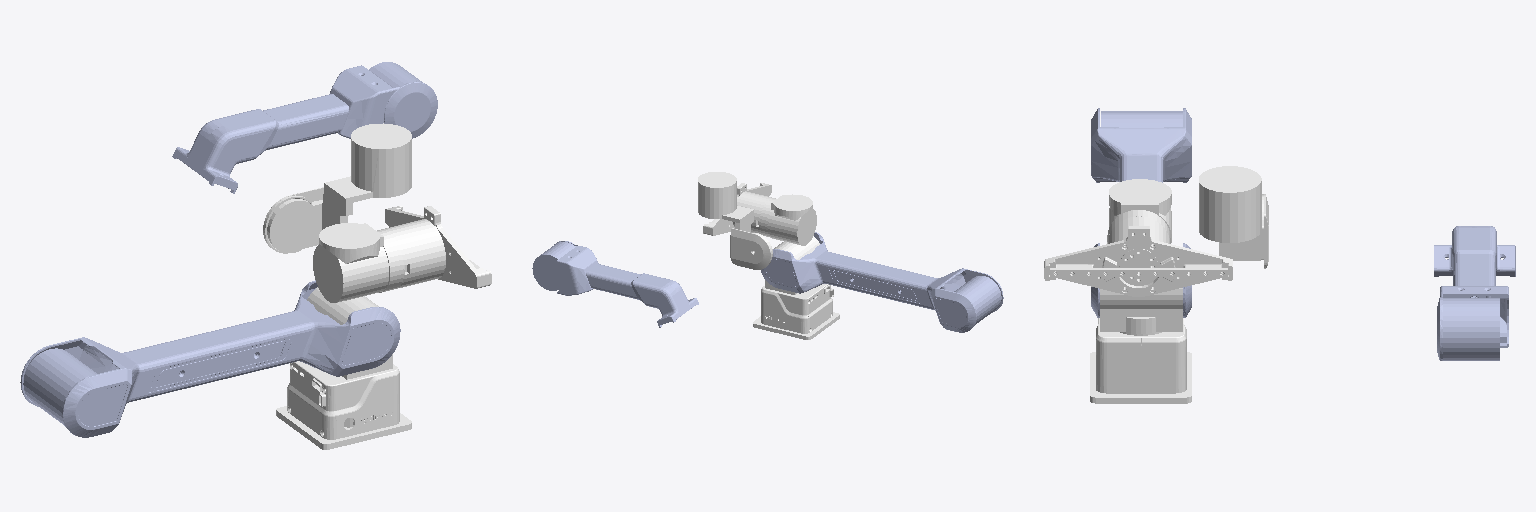
URDF robot description (S1_urdf):
<?xml version="1.0" encoding="utf-8"?>
<!-- This URDF was automatically created by SolidWorks to URDF Exporter! Originally created by Stephen Brawner (brawner@gmail.com) 
     Commit Version: 1.6.0-4-g7f85cfe  Build Version: 1.6.7995.38578
     For more information, please see http://wiki.ros.org/sw_urdf_exporter -->
<robot
  name="S1_urdf">
  <link
    name="base_link">
    <inertial>
      <origin
        xyz="-2.95623718748507E-06 0.00380858444094159 -0.00812774108594988"
        rpy="0 0 0" />
      <mass
        value="0.20806063959613" />
      <inertia
        ixx="0.000111825104100504"
        ixy="2.09920975933719E-08"
        ixz="7.58291968234202E-09"
        iyy="0.000111582714512014"
        iyz="1.21102241506082E-07"
        izz="0.000141736244263584" />
    </inertial>
    <visual>
      <origin
        xyz="0 0 0"
        rpy="0 0 0" />
      <geometry>
        <mesh
          filename="package://S1_urdf/meshes/base_link.STL" />
      </geometry>
      <material
        name="">
        <color
          rgba="1 1 1 1" />
      </material>
    </visual>
    <collision>
      <origin
        xyz="0 0 0"
        rpy="0 0 0" />
      <geometry>
        <mesh
          filename="package://S1_urdf/meshes/base_link.STL" />
      </geometry>
    </collision>
  </link>
  <link
    name="1_Link">
    <inertial>
      <origin
        xyz="-5.00000000002408E-06 7.80625564189563E-18 0.0590653989286232"
        rpy="0 0 0" />
      <mass
        value="0.240435362198768" />
      <inertia
        ixx="0.000128091509815163"
        ixy="-1.64953324173944E-20"
        ixz="1.41447947803783E-21"
        iyy="0.00018630832355269"
        iyz="3.78136640939339E-21"
        izz="0.000164031471753809" />
    </inertial>
    <visual>
      <origin
        xyz="0 0 0"
        rpy="0 0 0" />
      <geometry>
        <mesh
          filename="package://S1_urdf/meshes/1_Link.STL" />
      </geometry>
      <material
        name="">
        <color
          rgba="1 1 1 1" />
      </material>
    </visual>
    <collision>
      <origin
        xyz="0 0 0"
        rpy="0 0 0" />
      <geometry>
        <mesh
          filename="package://S1_urdf/meshes/1_Link.STL" />
      </geometry>
    </collision>
  </link>
  <joint
    name="1joint"
    type="revolute">
    <origin
      xyz="0 0 0"
      rpy="0 0 0" />
    <parent
      link="base_link" />
    <child
      link="1_Link" />
    <axis
      xyz="0 0 1" />
    <limit
      lower="-2.967"
      upper="2.967"
      effort="9"
      velocity="3" />
  </joint>
  <link
    name="2_Link">
    <inertial>
      <origin
        xyz="0.000517956052955909 0.251879223621486 -7.29157387886203E-05"
        rpy="0 0 0" />
      <mass
        value="0.27895983245346" />
      <inertia
        ixx="0.000968577549611043"
        ixy="-2.62737227765118E-07"
        ixz="7.55244891626037E-08"
        iyy="0.000163800463938934"
        iyz="-1.39606866960903E-05"
        izz="0.00100988911020498" />
    </inertial>
    <visual>
      <origin
        xyz="0 0 0"
        rpy="0 0 0" />
      <geometry>
        <mesh
          filename="package://S1_urdf/meshes/2_Link.STL" />
      </geometry>
      <material
        name="">
        <color
          rgba="0.792156862745098 0.819607843137255 0.933333333333333 1" />
      </material>
    </visual>
    <collision>
      <origin
        xyz="0 0 0"
        rpy="0 0 0" />
      <geometry>
        <mesh
          filename="package://S1_urdf/meshes/2_Link.STL" />
      </geometry>
    </collision>
  </link>
  <joint
    name="2joint"
    type="revolute">
    <origin
      xyz="0 0 0.06525"
      rpy="0 0 0" />
    <parent
      link="1_Link" />
    <child
      link="2_Link" />
    <axis
      xyz="1 0 0" />
    <limit
      lower="0"
      upper="3.14"
      effort="9"
      velocity="3" />
  </joint>
  <link
    name="3_Link">
    <inertial>
      <origin
        xyz="-0.00362158780107997 -0.190378401760348 0.05637521019956"
        rpy="0 0 0" />
      <mass
        value="0.196496171403488" />
      <inertia
        ixx="0.000364814635826923"
        ixy="-1.27450659123861E-05"
        ixz="3.20235247907807E-07"
        iyy="7.62290489044249E-05"
        iyz="1.40318828274627E-05"
        izz="0.00035652911962415" />
    </inertial>
    <visual>
      <origin
        xyz="0 0 0"
        rpy="0 0 0" />
      <geometry>
        <mesh
          filename="package://S1_urdf/meshes/3_Link.STL" />
      </geometry>
      <material
        name="">
        <color
          rgba="0.796078431372549 0.823529411764706 0.937254901960784 1" />
      </material>
    </visual>
    <collision>
      <origin
        xyz="0 0 0"
        rpy="0 0 0" />
      <geometry>
        <mesh
          filename="package://S1_urdf/meshes/3_Link.STL" />
      </geometry>
    </collision>
  </link>
  <joint
    name="3joint"
    type="revolute">
    <origin
      xyz="0.000495 0.3 0"
      rpy="0 0 0" />
    <parent
      link="2_Link" />
    <child
      link="3_Link" />
    <axis
      xyz="1 0 0" />
    <limit
      lower="-3.4"
      upper="0"
      effort="9"
      velocity="3" />
  </joint>
  <link
    name="4_Link">
    <inertial>
      <origin
        xyz="0.00252083182130338 -0.0683945378314372 0.0485251695946249"
        rpy="0 0 0" />
      <mass
        value="0.160912102201024" />
      <inertia
        ixx="0.000219616653698239"
        ixy="-2.36812899894328E-05"
        ixz="1.95242373799905E-05"
        iyy="0.000134927190897753"
        iyz="7.64926182833174E-05"
        izz="0.000157365120045885" />
    </inertial>
    <visual>
      <origin
        xyz="0 0 0"
        rpy="0 0 0" />
      <geometry>
        <mesh
          filename="package://S1_urdf/meshes/4_Link.STL" />
      </geometry>
      <material
        name="">
        <color
          rgba="1 1 1 1" />
      </material>
    </visual>
    <collision>
      <origin
        xyz="0 0 0"
        rpy="0 0 0" />
      <geometry>
        <mesh
          filename="package://S1_urdf/meshes/4_Link.STL" />
      </geometry>
    </collision>
  </link>
  <joint
    name="4joint"
    type="revolute">
    <origin
      xyz="-0.000494999999999959 -0.22 0.057"
      rpy="0 0 0" />
    <parent
      link="3_Link" />
    <child
      link="4_Link" />
    <axis
      xyz="1 0 0" />
    <limit
      lower="-1.57"
      upper="1.518"
      effort="3"
      velocity="3" />
  </joint>
  <link
    name="5_Link">
    <inertial>
      <origin
        xyz="-9.47220826080786E-11 -0.000956923597758259 -0.0552062581443398"
        rpy="0 0 0" />
      <mass
        value="0.148471219823558" />
      <inertia
        ixx="7.08257113400729E-05"
        ixy="-1.5497177914109E-11"
        ixz="-9.66138853776986E-13"
        iyy="7.22679916508393E-05"
        iyz="-9.23231896036374E-07"
        izz="6.22190701090223E-05" />
    </inertial>
    <visual>
      <origin
        xyz="0 0 0"
        rpy="0 0 0" />
      <geometry>
        <mesh
          filename="package://S1_urdf/meshes/5_Link.STL" />
      </geometry>
      <material
        name="">
        <color
          rgba="1 1 1 1" />
      </material>
    </visual>
    <collision>
      <origin
        xyz="0 0 0"
        rpy="0 0 0" />
      <geometry>
        <mesh
          filename="package://S1_urdf/meshes/5_Link.STL" />
      </geometry>
    </collision>
  </link>
  <joint
    name="5joint"
    type="revolute">
    <origin
      xyz="0 -0.0807873370477526 0.0591736792802548"
      rpy="0 0 0" />
    <parent
      link="4_Link" />
    <child
      link="5_Link" />
    <axis
      xyz="0 0 1" />
    <limit
      lower="-1.57"
      upper="1.57"
      effort="3"
      velocity="3" />
  </joint>
  <link
    name="6_Link">
    <inertial>
      <origin
        xyz="3.32171805946663E-08 -0.0626158316452318 0.000434560337518708"
        rpy="0 0 0" />
      <mass
        value="0.191165521062463" />
      <inertia
        ixx="5.70485879493432E-05"
        ixy="2.14307445217731E-11"
        ixz="5.2606926872901E-12"
        iyy="0.000155311638007212"
        iyz="-1.09404285286489E-07"
        izz="0.000139085602087797" />
    </inertial>
    <visual>
      <origin
        xyz="0 0 0"
        rpy="0 0 0" />
      <geometry>
        <mesh
          filename="package://S1_urdf/meshes/6_Link.STL" />
      </geometry>
      <material
        name="">
        <color
          rgba="1 1 1 1" />
      </material>
    </visual>
    <collision>
      <origin
        xyz="0 0 0"
        rpy="0 0 0" />
      <geometry>
        <mesh
          filename="package://S1_urdf/meshes/6_Link.STL" />
      </geometry>
    </collision>
  </link>















  
  <joint
    name="6joint"
    type="revolute">
    <origin
      xyz="0 -0.0012127 -0.059174"
      rpy="0 0 0" />
    <parent
      link="5_Link" />
    <child
      link="6_Link" />
    <axis
      xyz="0 -1 0" />
    <limit
      lower="-1.57"
      upper="1.57"
      effort="3"
      velocity="3" />
  </joint>
 







    <link
    name="7_1_Link">
    <inertial>
      <origin
        xyz="3.32171805946663E-08 -0.0626158316452318 0.000434560337518708"
        rpy="0 0 0" />
      <mass
        value="0.091165521062463" />
      <inertia
        ixx="5.70485879493432E-05"
        ixy="2.14307445217731E-11"
        ixz="5.2606926872901E-12"
        iyy="0.000155311638007212"
        iyz="-1.09404285286489E-07"
        izz="0.000139085602087797" />
    </inertial>
    <visual>
      <origin
        xyz="0 0 0"
        rpy="0 0 0" />
      <geometry>
        <mesh
          filename="package://S1_urdf/meshes/7_1_Link.STL" />
      </geometry>
      <material
        name="">
        <color
          rgba="1 1 1 1" />
      </material>
    </visual>
    <collision>
      <origin
        xyz="0 0 0"
        rpy="0 0 0" />
      <geometry>
        <mesh
          filename="package://S1_urdf/meshes/7_1_Link.STL" />
      </geometry>
    </collision>
  </link>

  <link
    name="7_2_Link">
    <inertial>
      <origin
        xyz="3.32171805946663E-08 -0.0626158316452318 0.000434560337518708"
        rpy="0 0 0" />
      <mass
        value="0.091165521062463" />
      <inertia
        ixx="5.70485879493432E-05"
        ixy="2.14307445217731E-11"
        ixz="5.2606926872901E-12"
        iyy="0.000155311638007212"
        iyz="-1.09404285286489E-07"
        izz="0.000139085602087797" />
    </inertial>
    <visual>
      <origin
        xyz="0 0 0"
        rpy="0 0 0" />
      <geometry>
        <mesh
          filename="package://S1_urdf/meshes/7_2_Link.STL" />
      </geometry>
      <material
        name="">
        <color
          rgba="1 1 1 1" />
      </material>
    </visual>
    <collision>
      <origin
        xyz="0 0 0"
        rpy="0 0 0" />
      <geometry>
        <mesh
          filename="package://S1_urdf/meshes/7_2_Link.STL" />
      </geometry>
    </collision>
  </link>
  <joint
    name="7joint"
    type="prismatic">
    <origin
      xyz="0.0139 -0.1 0.016"
      rpy="1.57 0 0" />
    <parent
      link="6_Link" />
    <child
      link="7_1_Link" />
    <axis
      xyz="1 0 0" />
    <limit
      lower="0"
      upper="0.05"
      effort="3"
      velocity="3" />
  </joint>
    <joint
    name="8joint"
    type="prismatic">
    <origin
      xyz="-0.0139 -0.1 -0.016"
      rpy="1.57 0 0" />
    <parent
      link="6_Link" />
    <child
      link="7_2_Link" />
    <axis
      xyz="-1 0 0" />
    <limit
      lower="0"
      upper="0.05"
      effort="3"
      velocity="3" />
  </joint>
</robot>

--- What the picture shows (computed from the rendered views, not written in the file) ---
3 views of the same robot in one strip: view 1: azimuth 30°, elevation 25°; view 2: azimuth 150°, elevation 25°; view 3: azimuth 270°, elevation 25° (orthographic).
Model S1_urdf with 9 links and 8 joints (6 revolute, 2 prismatic), rooted at base_link, posed every joint at zero.
Links seen in each view (by area): view 1: 2_Link, 3_Link, 4_Link, base_link, 6_Link, 5_Link, 1_Link; view 2: 2_Link, 3_Link, 4_Link, base_link, 5_Link, 6_Link, 1_Link; view 3: 3_Link, 6_Link, 2_Link, base_link, 4_Link, 1_Link, 5_Link.
Link boxes in pixels (x1,y1,x2,y2): 2_Link: (20,280,400,437); 3_Link: (172,62,437,193); 4_Link: (263,123,411,253); base_link: (276,361,411,449); 6_Link: (377,206,491,292); 5_Link: (313,223,388,302); 1_Link: (307,287,392,379); 2_Link: (761,232,1003,332); 3_Link: (532,241,698,327); 4_Link: (698,172,772,269); base_link: (753,284,839,339); 5_Link: (767,194,816,245); 6_Link: (703,183,775,237); 1_Link: (765,236,819,294); 3_Link: (1434,226,1515,360); 6_Link: (1044,210,1232,296); 2_Link: (1091,108,1191,317); base_link: (1090,318,1191,403); 4_Link: (1199,166,1268,268); 1_Link: (1100,288,1182,333); 5_Link: (1109,179,1171,242).
Bounding box of the posed robot: 0.5797 × 0.4239 × 0.24 m (x, y, z).
7 mesh visuals loaded from 9 distinct referenced files (7 binary STL); not drawn: 2 (reference not matched to a file when rendering).
